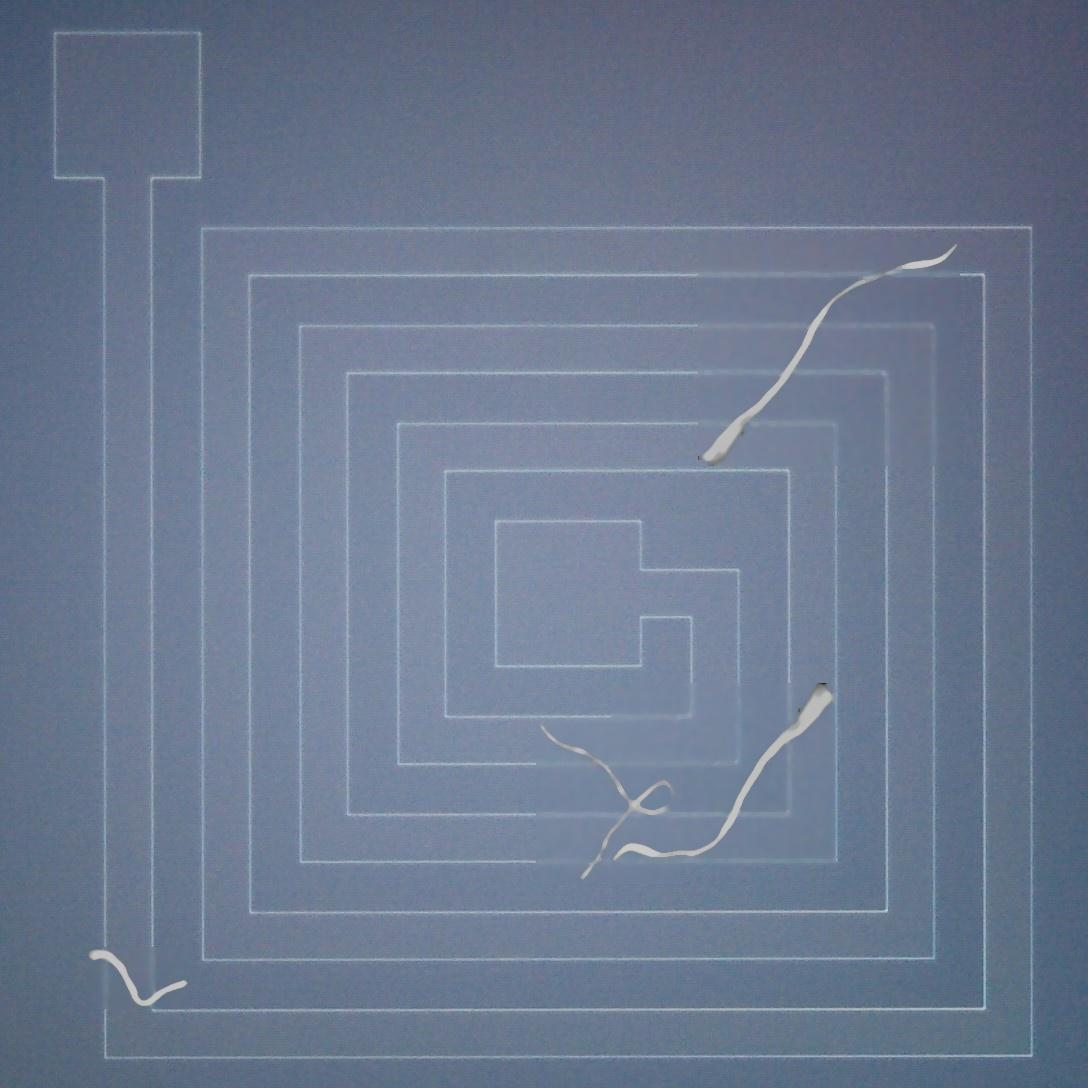foreign: (695, 238, 972, 476), (609, 681, 841, 872), (536, 716, 681, 885), (86, 941, 195, 1011)
